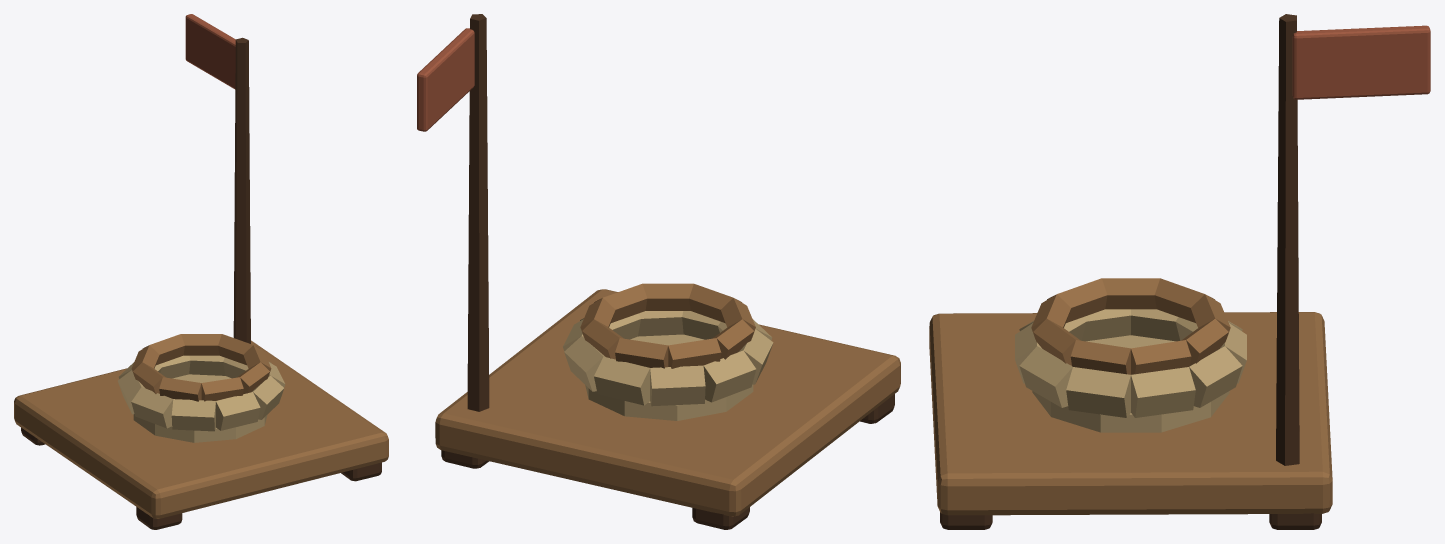
File: perchoir.glb
3 views of the same model, side by side, from view 1: azimuth 30°, elevation 25°; view 2: azimuth 150°, elevation 25°; view 3: azimuth 270°, elevation 25° (orthographic). The views are drawn at different scales.
Parts seen in each view (by area): view 1: perchoir; view 2: perchoir; view 3: perchoir.
Boxes of the visible parts, x1,y1,x2,y2 form: perchoir: (14,14,388,529); perchoir: (417,14,900,529); perchoir: (929,14,1430,529).
Size of the model in its own units: 1.22 by 1.68 by 1.52.
